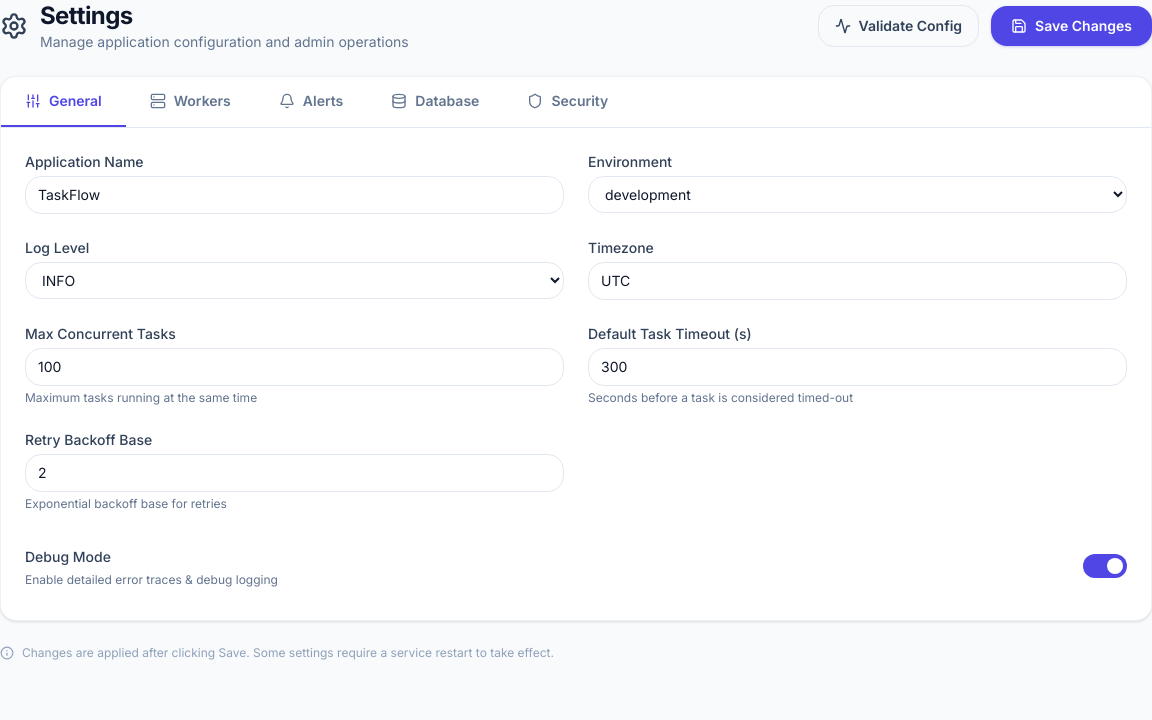
Scenario: SettingsPage › switches to Database tab and shows maintenance section
Click the button "Database" at point(435, 102), box [367, 77, 503, 127]
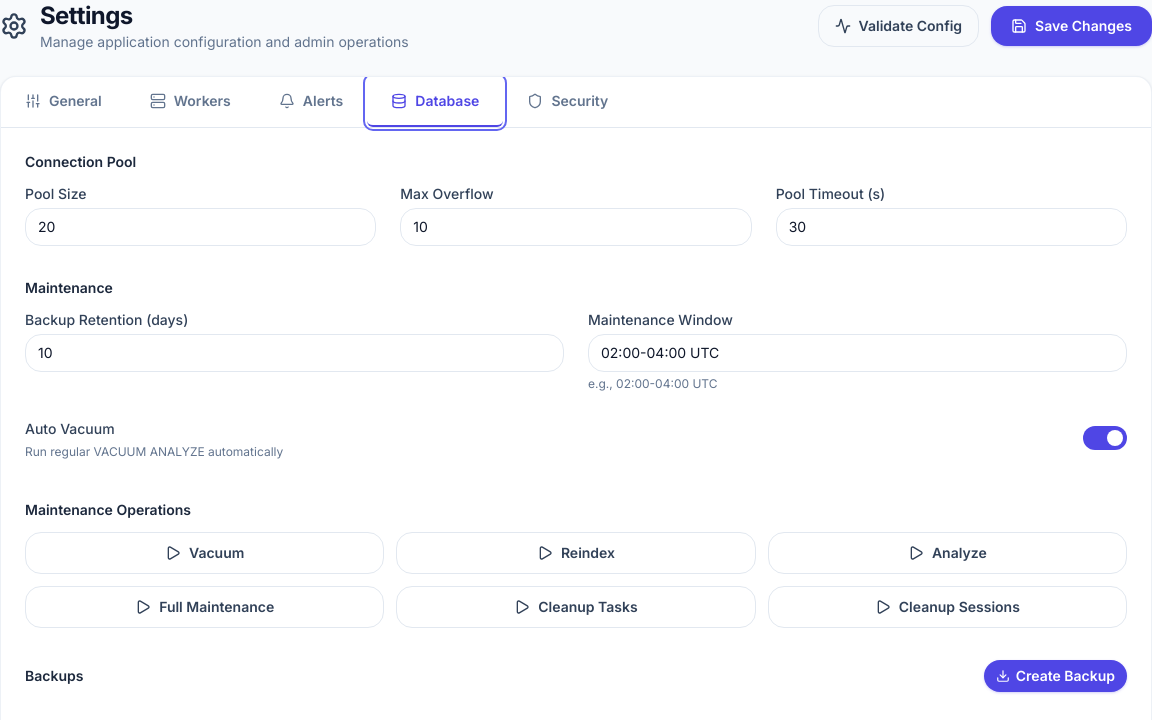
Result: the heading "Connection Pool" is shown at [25, 153, 136, 170]
Result: the heading "Maintenance Operations" is shown at [25, 501, 191, 518]
